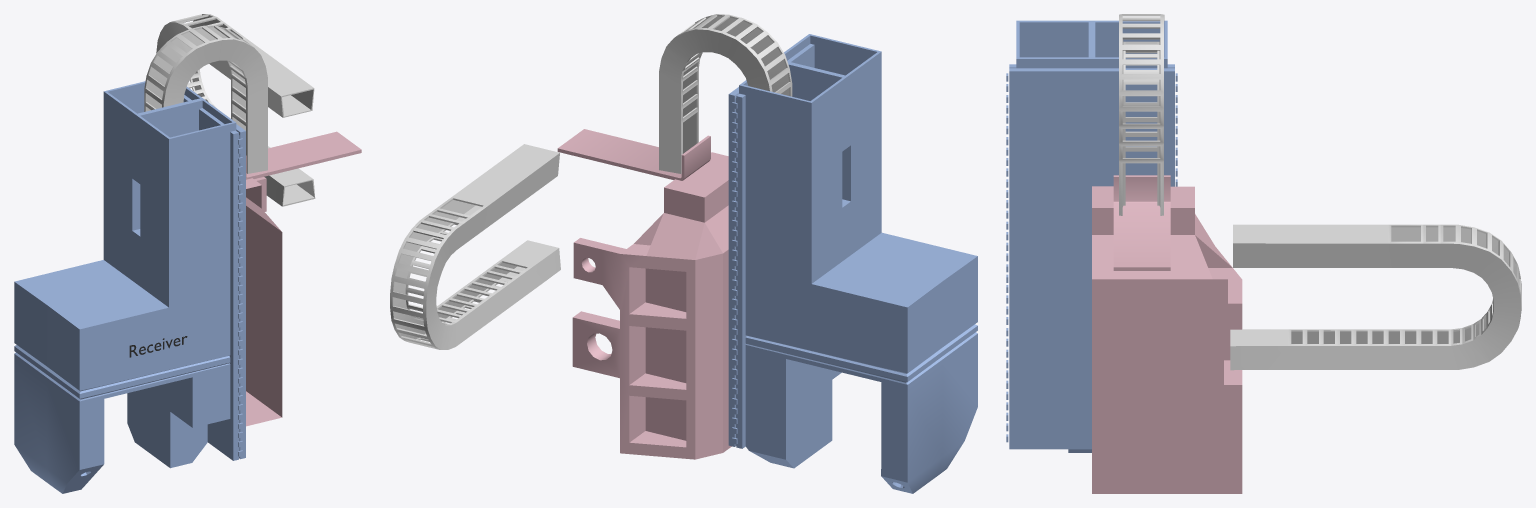
The model's file is receiver.glb.
3 views of the same model, side by side, from view 1: azimuth 30°, elevation 25°; view 2: azimuth 150°, elevation 25°; view 3: azimuth 270°, elevation 25° (orthographic). The views are drawn at different scales.
Parts seen in each view (by area): view 1: Cube.033, Cube.006, Cube.032, Cube.014; view 2: Cube.033, Cube.006, Cube.014, Cube.032; view 3: Cube.033, Cube.006, Cube.014, Cube.032.
Boxes of the visible parts, x1=… form: Cube.033: x1=14, y1=81, x2=245, y2=493; Cube.006: x1=246, y1=131, x2=361, y2=426; Cube.032: x1=144, y1=25, x2=267, y2=173; Cube.014: x1=156, y1=14, x2=315, y2=206; Cube.033: x1=728, y1=34, x2=977, y2=493; Cube.006: x1=557, y1=129, x2=731, y2=459; Cube.014: x1=390, y1=144, x2=560, y2=349; Cube.032: x1=659, y1=14, x2=792, y2=173; Cube.033: x1=1006, y1=20, x2=1177, y2=452; Cube.006: x1=1092, y1=175, x2=1242, y2=493; Cube.014: x1=1230, y1=224, x2=1521, y2=370; Cube.032: x1=1119, y1=14, x2=1164, y2=215.
Size of the model in its own units: 1.83 by 2.1 by 2.14.
